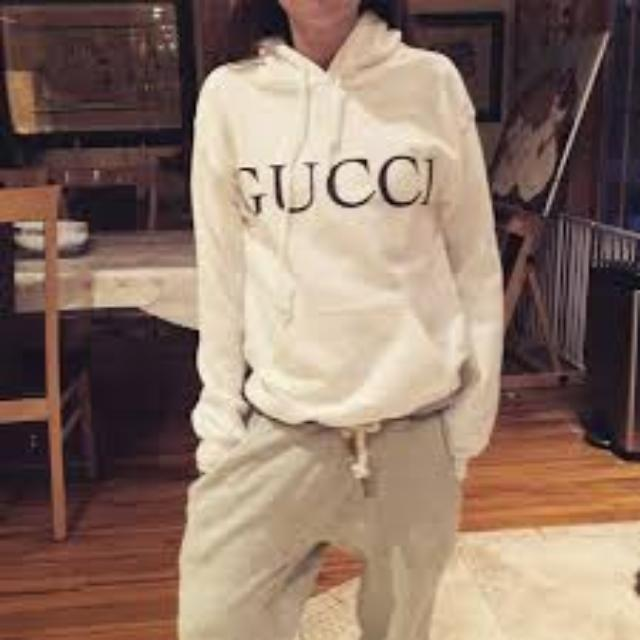Gucci: (227, 158, 446, 215)
